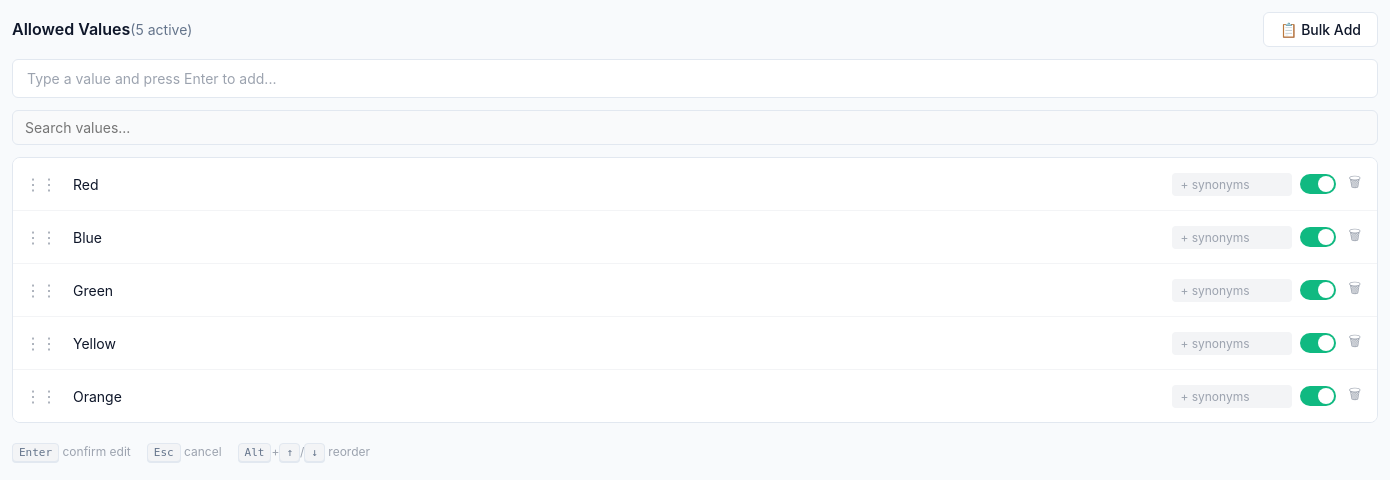
ValuesManager › Search › filters values by search query
In the field with test id "values-search": (695, 128) [12,110,1378,145], type "Blue"
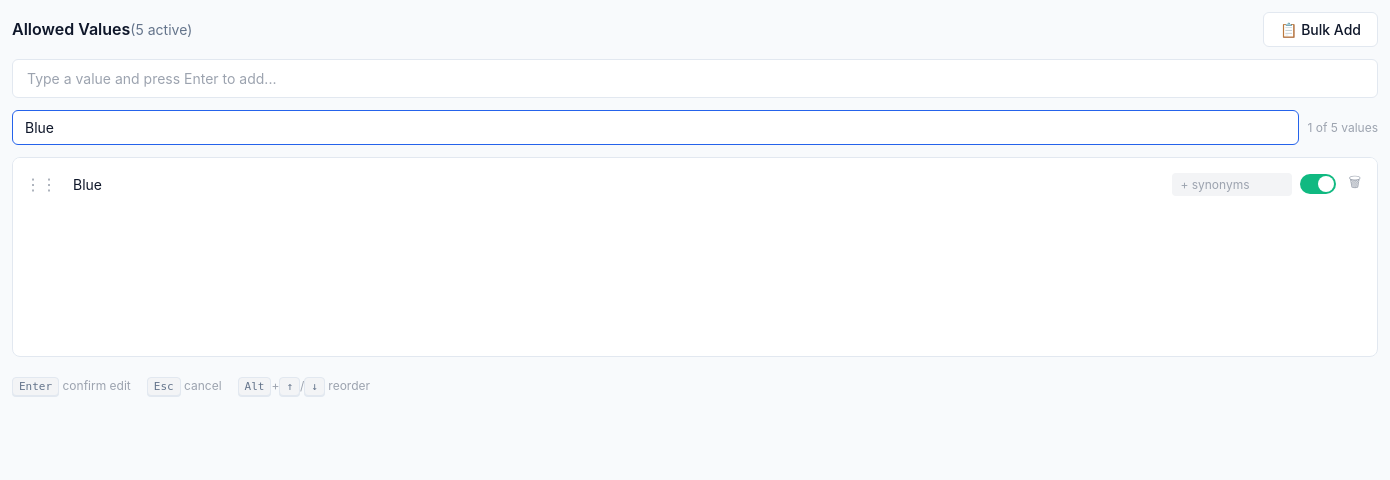
Expected: the text "Blue" is shown, [73,176,102,192]
Expected: the text "Red" is gone
